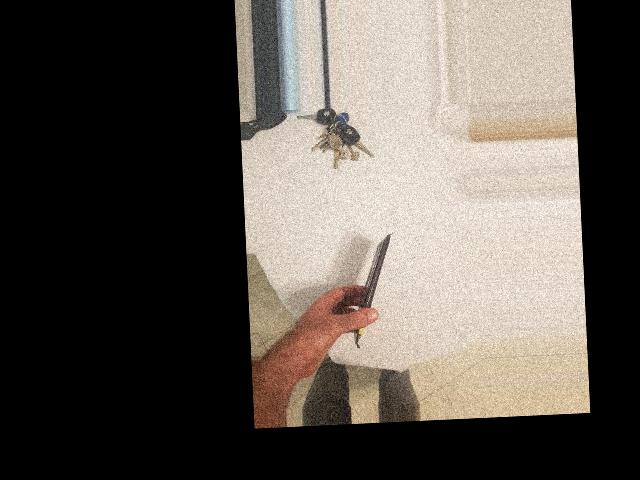chocolate: (337, 227, 404, 339)
